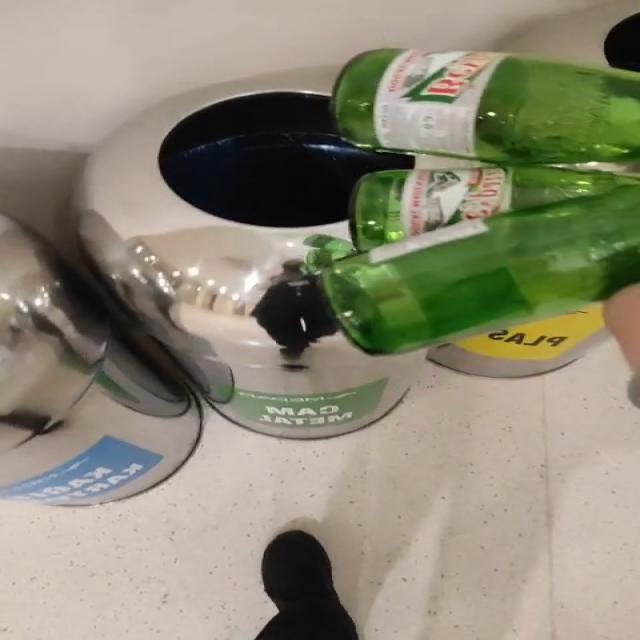bin: (77, 68, 424, 440)
glass: (321, 49, 639, 354)
